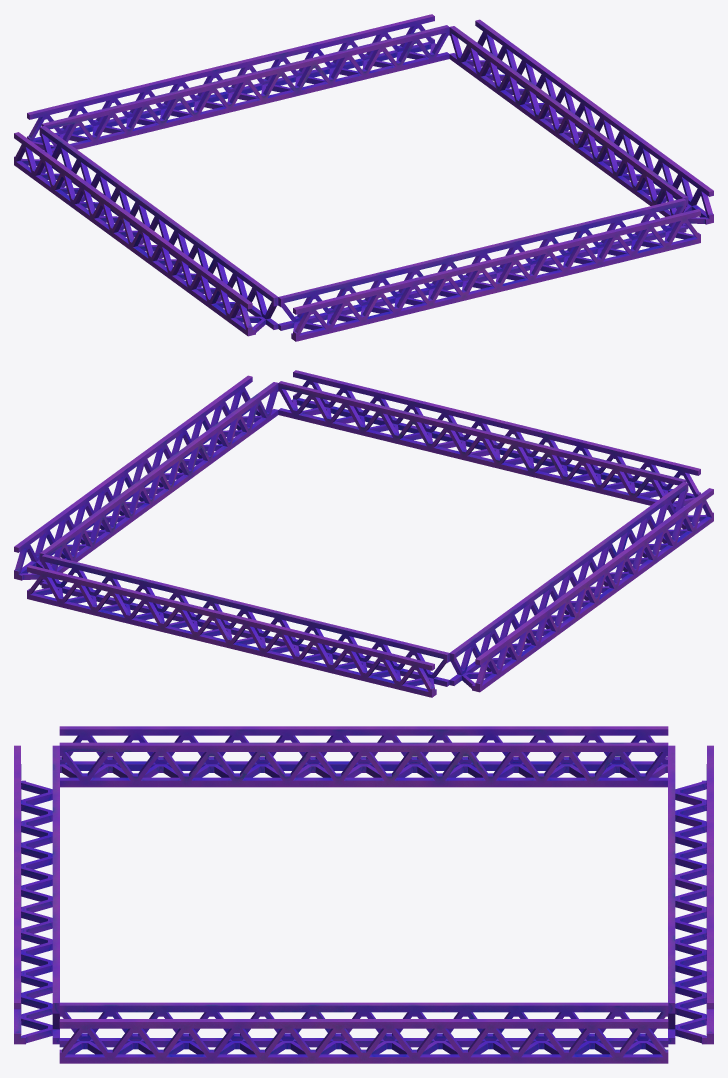
File: steel big frame2 1.fbx
3 views of the same model, one above another, from view 1: azimuth 30°, elevation 25°; view 2: azimuth 150°, elevation 25°; view 3: azimuth 270°, elevation 25° (orthographic). The views are drawn at different scales.
Parts seen in each view (by area): view 1: big_Steel_frame_13, big_Steel_frame_11, big_Steel_frame_12, big_Steel_frame_7; view 2: big_Steel_frame_11, big_Steel_frame_13, big_Steel_frame_12, big_Steel_frame_7; view 3: big_Steel_frame_7, big_Steel_frame_12, big_Steel_frame_11, big_Steel_frame_13.
Part boxes in pixels (x1,y1,x2,y2): big_Steel_frame_13: [278, 198, 700, 341]; big_Steel_frame_11: [27, 14, 449, 153]; big_Steel_frame_12: [14, 126, 278, 336]; big_Steel_frame_7: [449, 19, 713, 229]; big_Steel_frame_11: [27, 554, 449, 697]; big_Steel_frame_13: [278, 370, 700, 509]; big_Steel_frame_12: [449, 482, 713, 692]; big_Steel_frame_7: [14, 375, 278, 585]; big_Steel_frame_7: [59, 1002, 668, 1063]; big_Steel_frame_12: [59, 726, 668, 787]; big_Steel_frame_11: [668, 745, 713, 1044]; big_Steel_frame_13: [14, 745, 59, 1044].
Size of the model in its own units: 57.75 by 3.79 by 57.75.
1 material, 1 textured.
